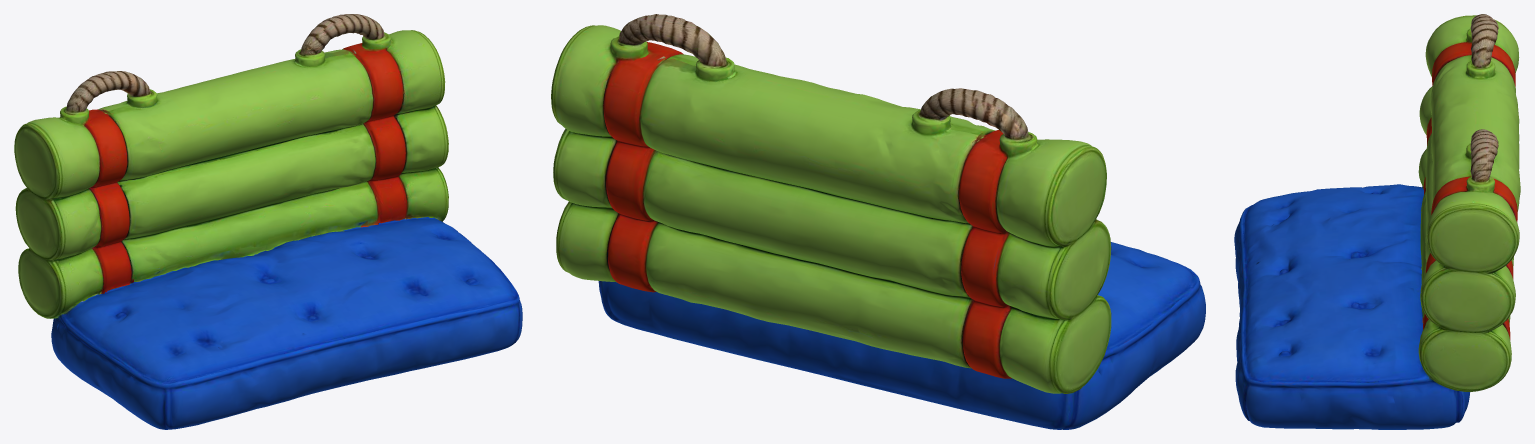
File: sofa.glb
3 renders of one model, left to right at view 1: azimuth 30°, elevation 25°; view 2: azimuth 150°, elevation 25°; view 3: azimuth 270°, elevation 25°, orthographic. The views are drawn at different scales.
Visible parts, largest first — view 1: textured; view 2: textured; view 3: textured.
Boxes of the visible parts, <box> form: textured: <box>14,14,522,429</box>; textured: <box>551,14,1205,429</box>; textured: <box>1234,14,1520,429</box>.
Bounding box in the file's own units: 1.76 × 1.12 × 1.09.
1 material, 1 textured.
